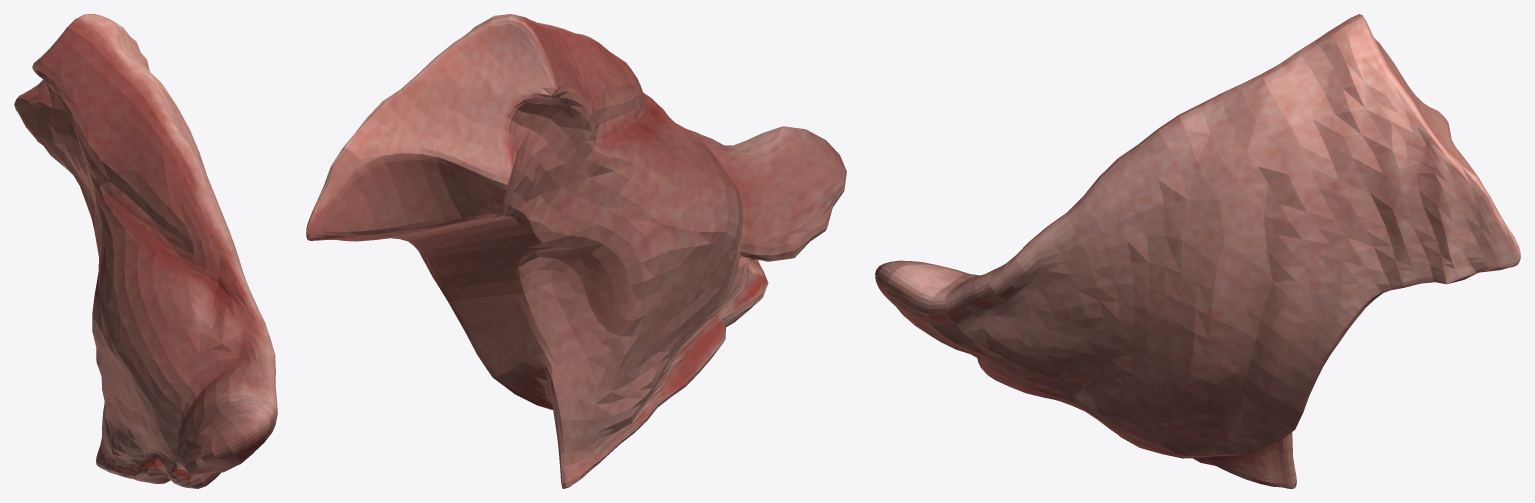
Rendered from L_lung_cranial_part_cranial_lung_lobe_LOW.glb.
The picture shows the model from 3 angles, left to right: view 1: azimuth 30°, elevation 25°; view 2: azimuth 150°, elevation 25°; view 3: azimuth 270°, elevation 25°; orthographic projection. The views are drawn at different scales.
Parts seen in each view (by area): view 1: L_lung_cranial_part_cranial_lung_lobe_LOW; view 2: L_lung_cranial_part_cranial_lung_lobe_LOW; view 3: L_lung_cranial_part_cranial_lung_lobe_LOW.
Boxes of the visible parts, x1,y1,x2,y2 form: L_lung_cranial_part_cranial_lung_lobe_LOW: (14,14,277,488); L_lung_cranial_part_cranial_lung_lobe_LOW: (306,14,846,488); L_lung_cranial_part_cranial_lung_lobe_LOW: (875,14,1520,488).
Bounding box in the file's own units: 0.00176 × 0.00369 × 0.0045.
Materials: 1 (1 with a texture image).
